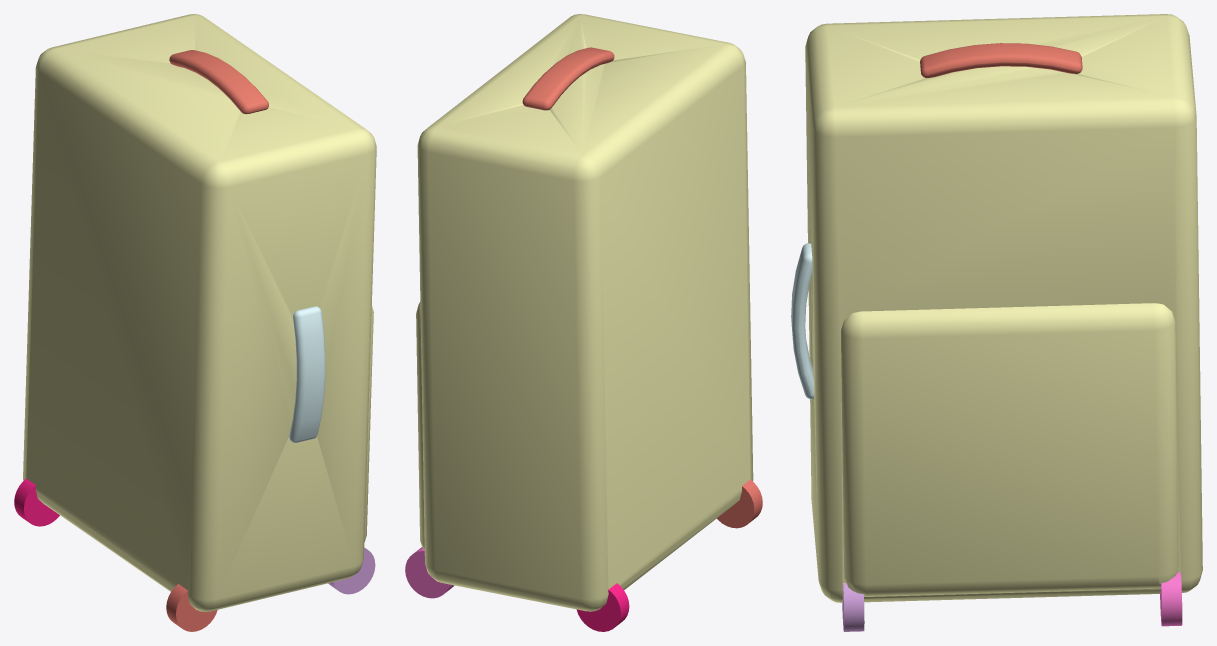
3 renders of one model, left to right at view 1: azimuth 30°, elevation 25°; view 2: azimuth 150°, elevation 25°; view 3: azimuth 270°, elevation 25°, orthographic. The views are drawn at different scales.
Parts seen in each view (by area): view 1: ChamferBox_Material #59_0, handle02_Material #60_0, handle01_Material #60_0, Wheel01_Black Matte_0, wheel02_Black Matte_0, Wheel01_2_Black Matte_0; view 2: ChamferBox_Material #59_0, handle01_Material #60_0, wheel02_Black Matte_0, Wheel01_Black Matte_0, wheel02_2_Black Matte_0; view 3: ChamferBox_Material #59_0, handle01_Material #60_0, handle02_Material #60_0, wheel02_2_Black Matte_0, Wheel01_2_Black Matte_0.
Boxes of the visible parts, <box> form: ChamferBox_Material #59_0: <box>23,14,376,611</box>; handle02_Material #60_0: <box>289,306,325,442</box>; handle01_Material #60_0: <box>169,50,268,114</box>; Wheel01_Black Matte_0: <box>166,584,217,631</box>; wheel02_Black Matte_0: <box>14,478,59,526</box>; Wheel01_2_Black Matte_0: <box>328,547,375,594</box>; ChamferBox_Material #59_0: <box>416,14,753,611</box>; handle01_Material #60_0: <box>522,47,614,110</box>; wheel02_Black Matte_0: <box>576,583,629,631</box>; Wheel01_Black Matte_0: <box>717,479,762,528</box>; wheel02_2_Black Matte_0: <box>405,547,454,598</box>; ChamferBox_Material #59_0: <box>805,14,1202,602</box>; handle01_Material #60_0: <box>920,43,1082,77</box>; handle02_Material #60_0: <box>791,243,814,399</box>; wheel02_2_Black Matte_0: <box>1160,572,1182,626</box>; Wheel01_2_Black Matte_0: <box>842,583,864,631</box>.
Size of the model in its own units: 0.4655 by 1 by 0.683.
